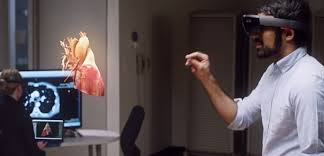hololens: (241, 7, 310, 38)
